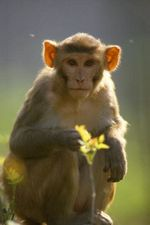monkey: (11, 6, 141, 202)
